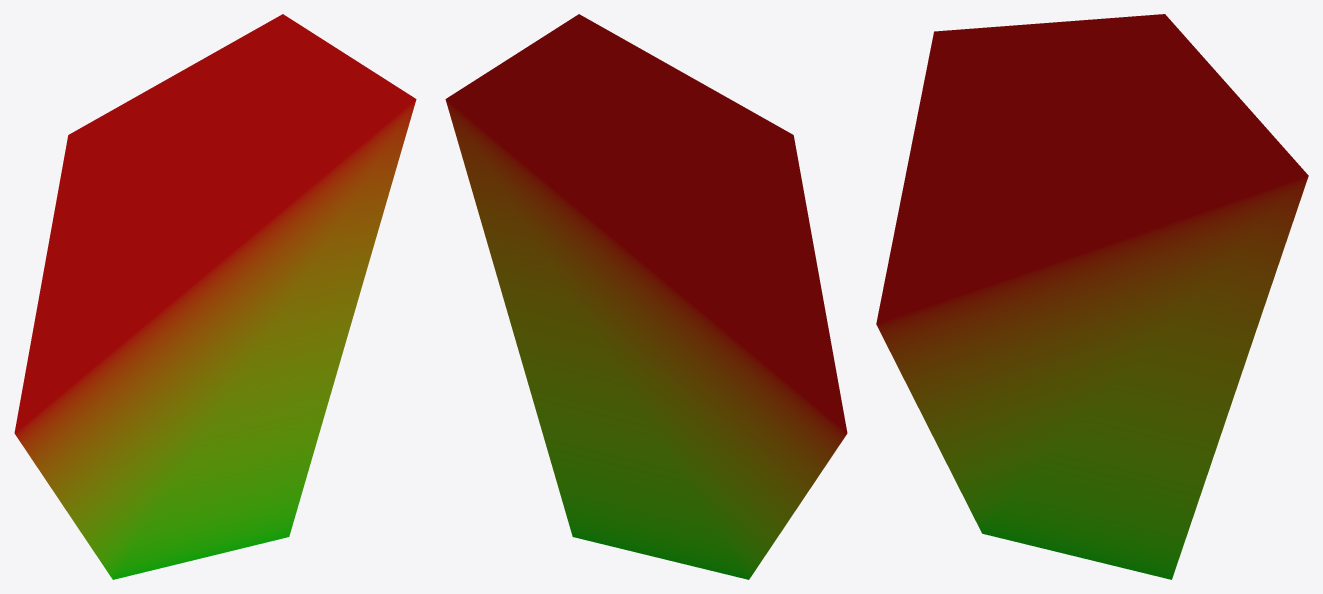
The model's file is Cane Palm_LOD3_Var4_siBmK.fbx.
3 renders of one model, left to right at view 1: azimuth 30°, elevation 25°; view 2: azimuth 150°, elevation 25°; view 3: azimuth 330°, elevation 25°, orthographic. The views are drawn at different scales.
Parts seen in each view (by area): view 1: _f9fb_Var4_LOD3; view 2: _f9fb_Var4_LOD3; view 3: _f9fb_Var4_LOD3.
Part boxes in pixels (<box>): _f9fb_Var4_LOD3: <box>14,14,416,579</box>; _f9fb_Var4_LOD3: <box>445,14,847,579</box>; _f9fb_Var4_LOD3: <box>876,14,1308,579</box>.
Size of the model in its own units: 16.13 by 20.11 by 3.52e-06.
